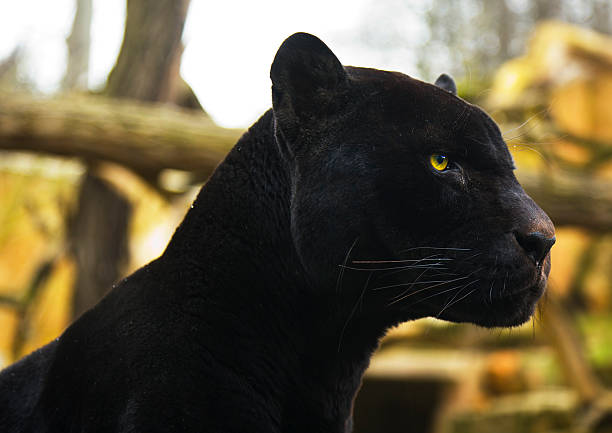panther: (261, 28, 576, 358)
